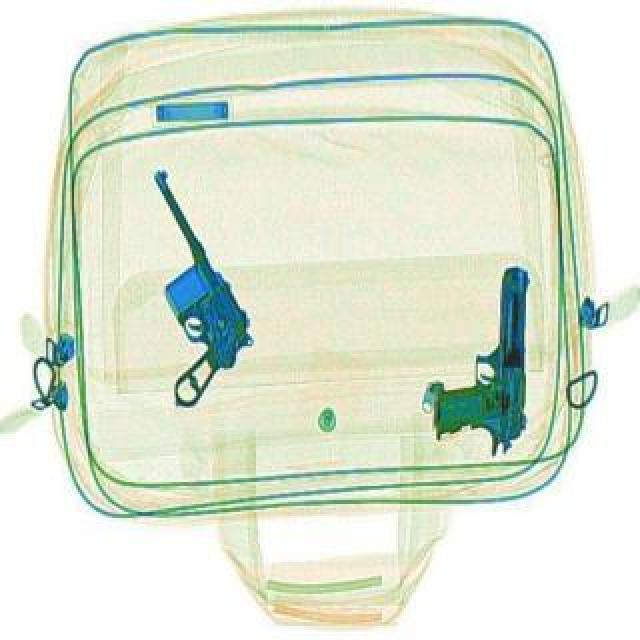gun: (70, 164, 278, 408), (434, 264, 530, 454)
